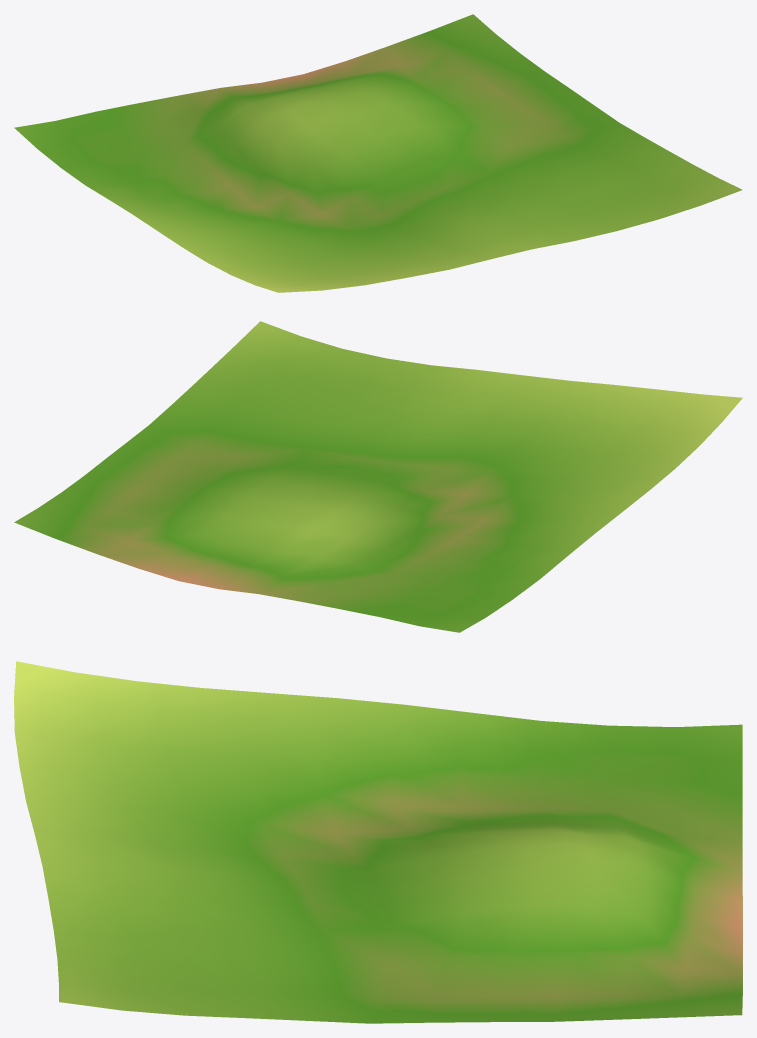
The model's file is Ground.fbx.
3 renders of one model, top to bottom at view 1: azimuth 30°, elevation 25°; view 2: azimuth 150°, elevation 25°; view 3: azimuth 270°, elevation 25°, orthographic. The views are drawn at different scales.
Visible parts, largest first — view 1: Ground; view 2: Ground; view 3: Ground.
Boxes of the visible parts, x1,y1,x2,y2 form: Ground: [14, 14, 742, 292]; Ground: [14, 321, 742, 632]; Ground: [14, 661, 742, 1023].
Size of the model in its own units: 231 by 27.01 by 231.
